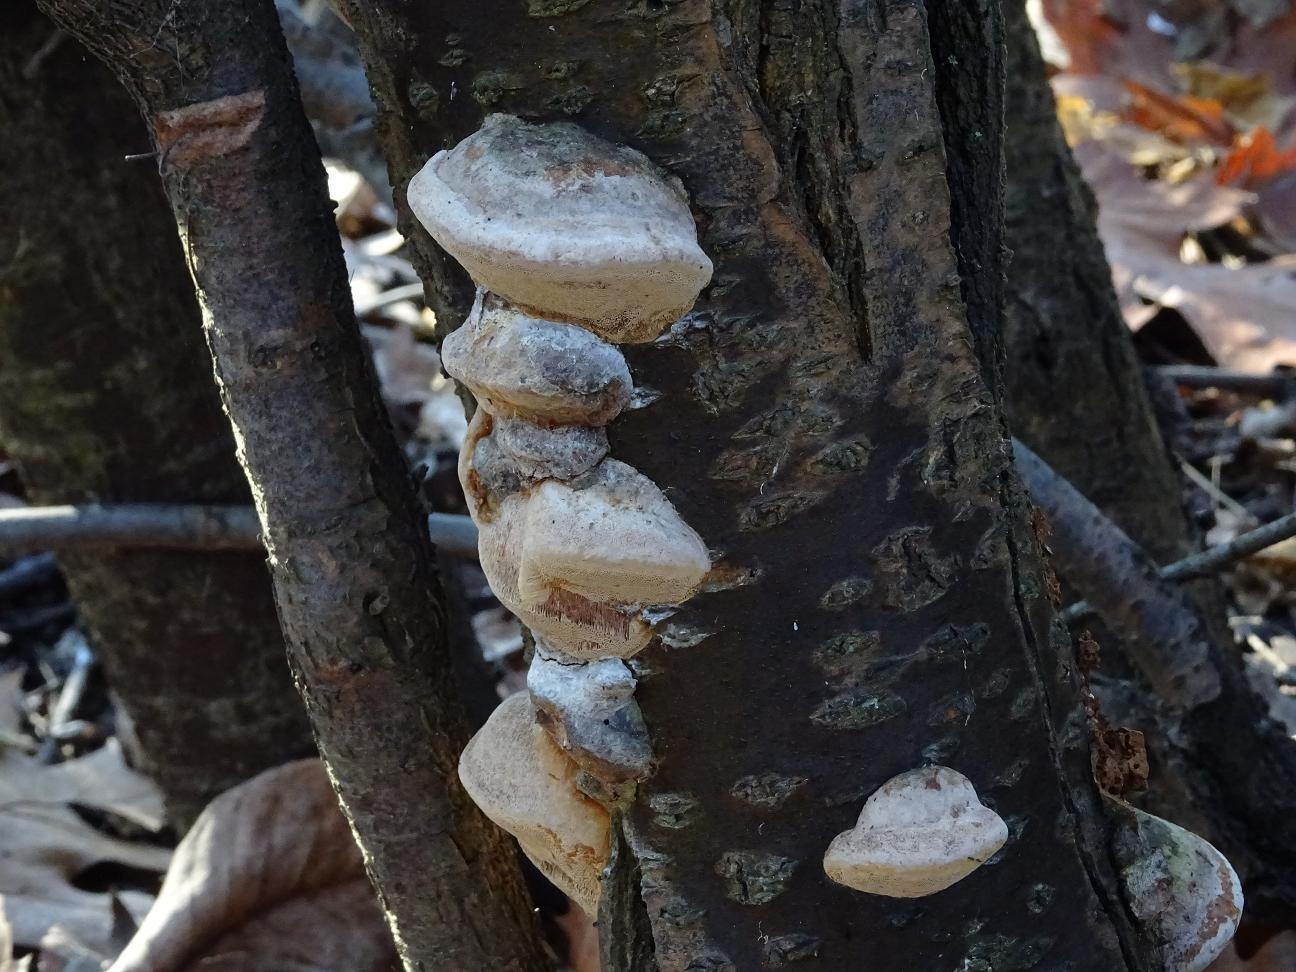Plum tinder fungus: (379, 83, 735, 914), (1082, 780, 1257, 972), (833, 754, 1020, 915)
